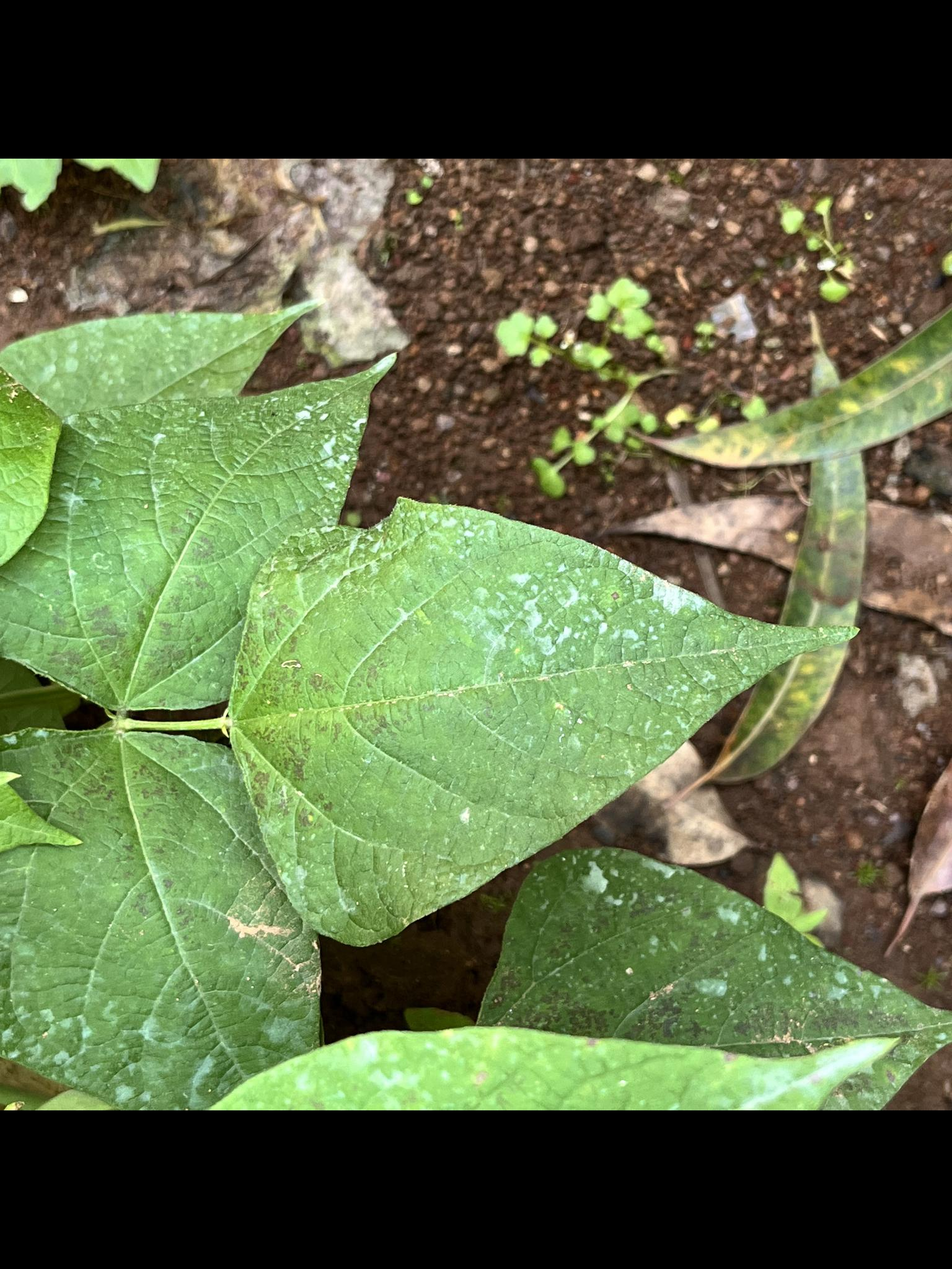embun tepung: (453, 563, 645, 682), (609, 560, 721, 630)
